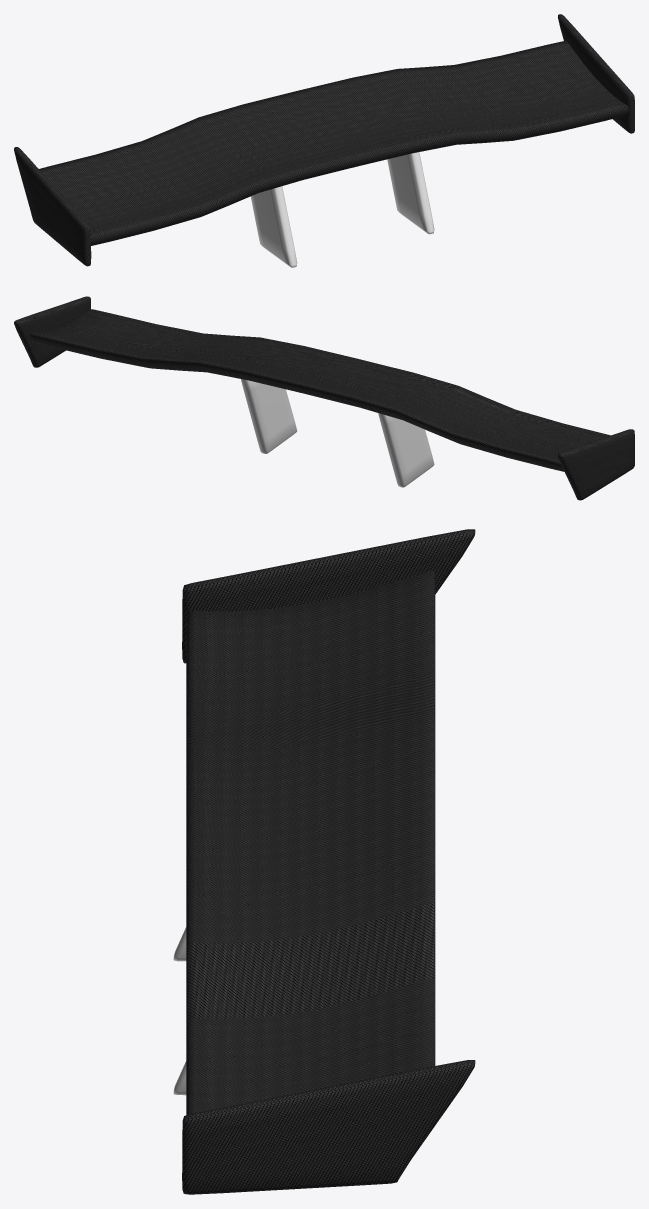
File: universal_spoiler_1.glb
The picture shows the model from 3 angles, top to bottom: view 1: azimuth 30°, elevation 25°; view 2: azimuth 150°, elevation 25°; view 3: azimuth 270°, elevation 25°; orthographic projection. The views are drawn at different scales.
Visible parts, largest first — view 1: Universal spoiler 1; view 2: Universal spoiler 1; view 3: Universal spoiler 1.
Boxes of the visible parts, x1,y1,x2,y2 form: Universal spoiler 1: (14,14,634,267); Universal spoiler 1: (14,296,634,500); Universal spoiler 1: (173,529,475,1194).
Bounding box in the file's own units: 1.46 × 0.2915 × 0.3471.
2 materials, 1 textured.
